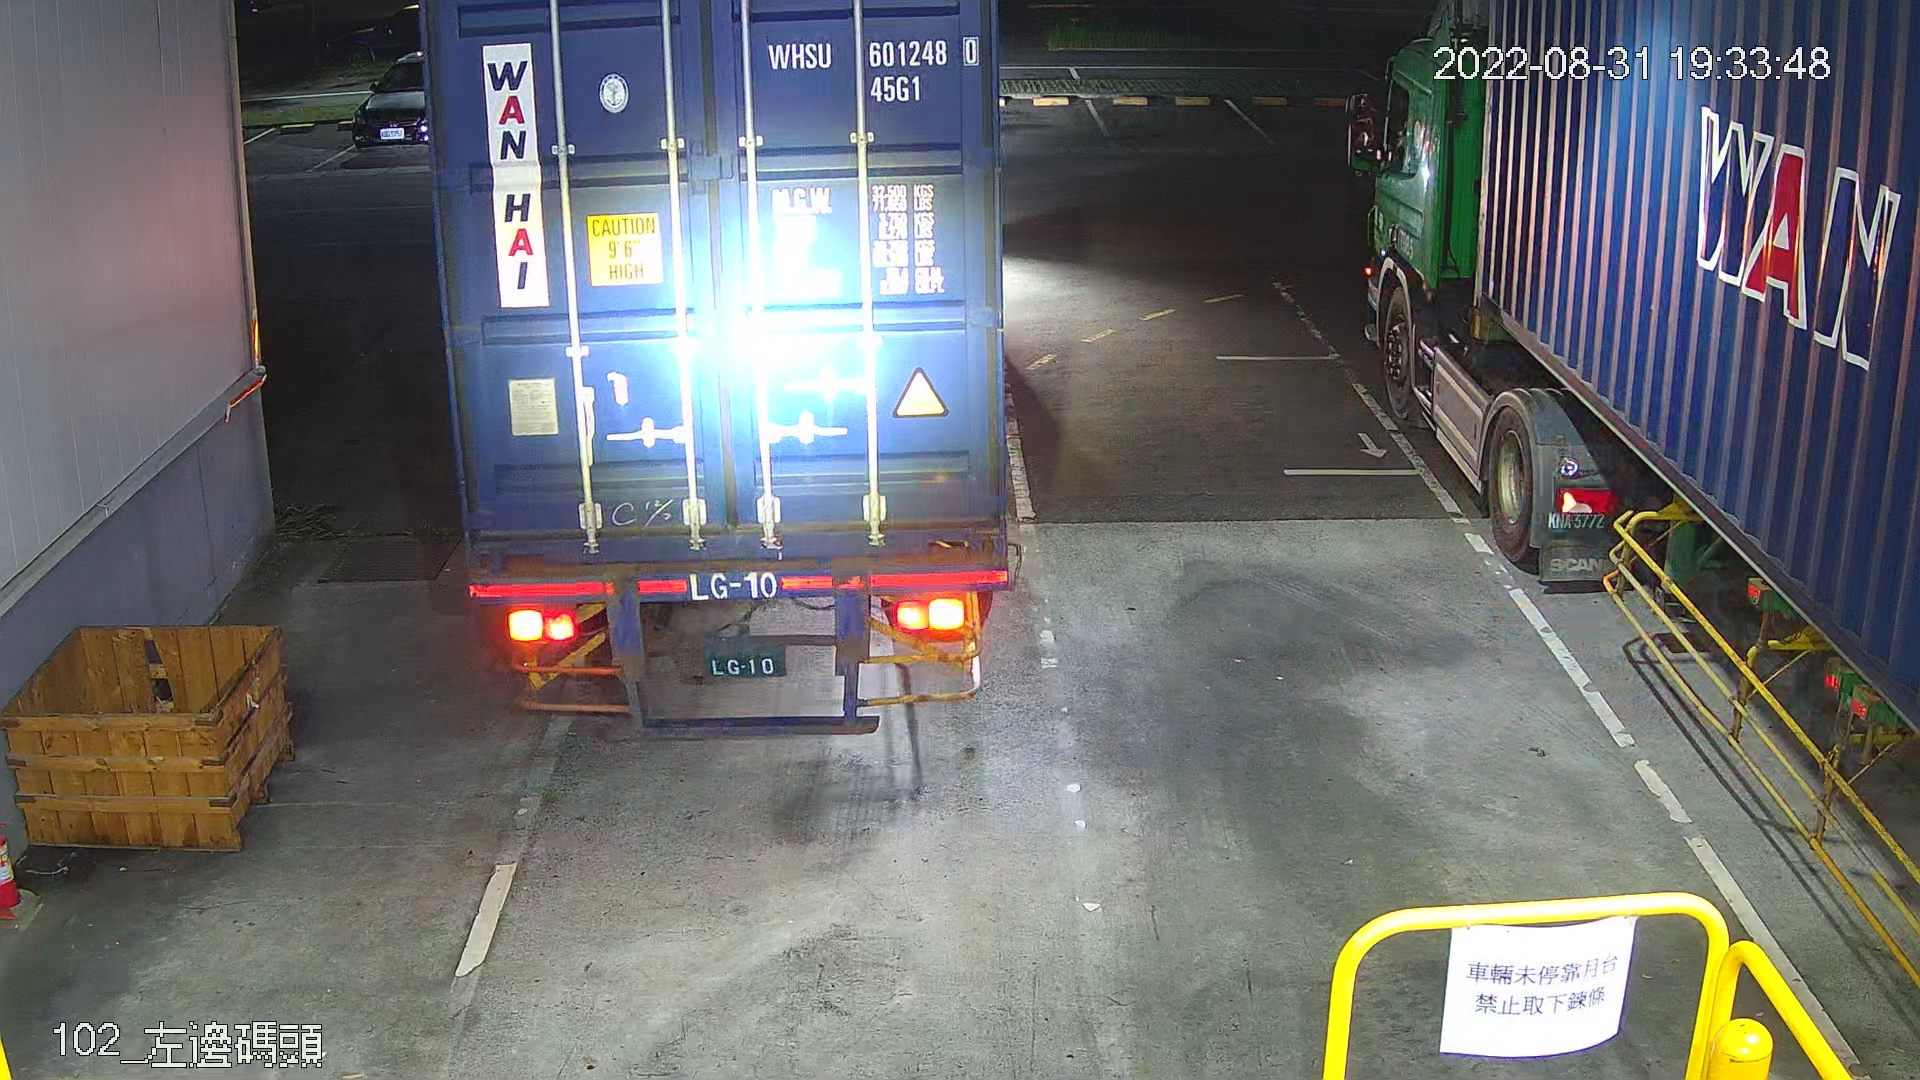container: (760, 29, 988, 108)
